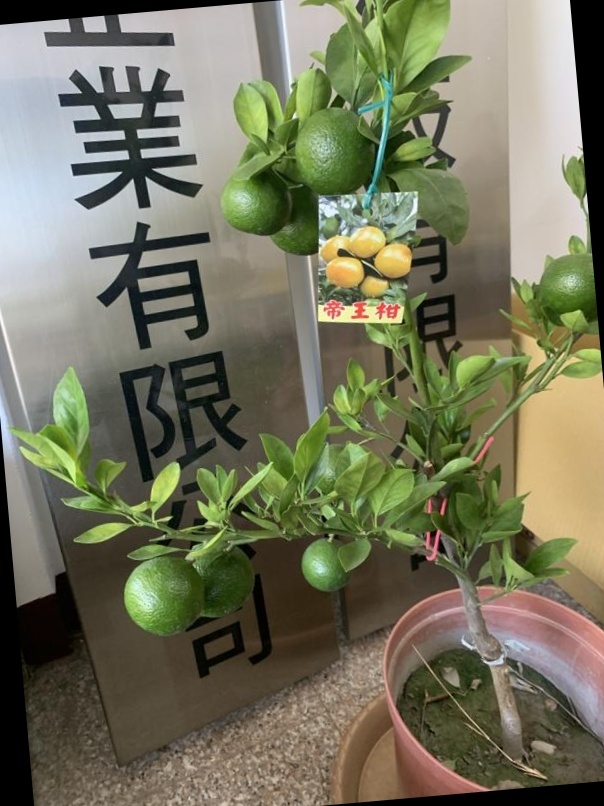Tangerine: (295, 107, 378, 196), (123, 557, 205, 637), (217, 167, 294, 238), (192, 547, 259, 620), (536, 253, 592, 327), (299, 534, 356, 592)
